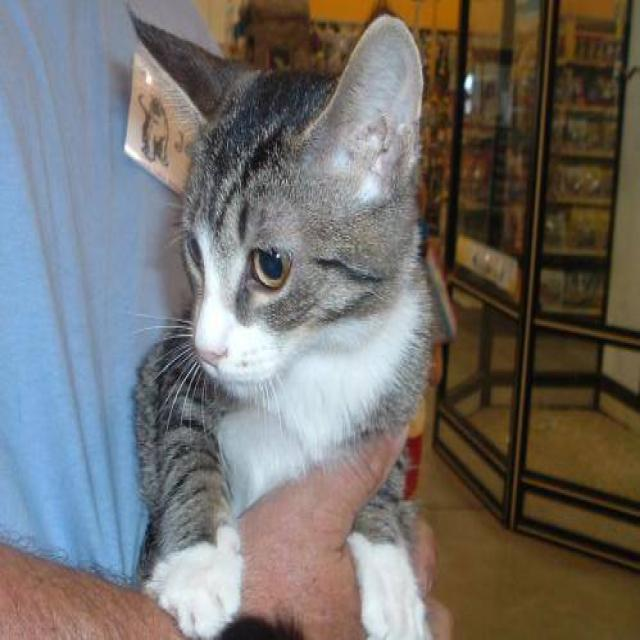cat: (123, 4, 452, 638)
